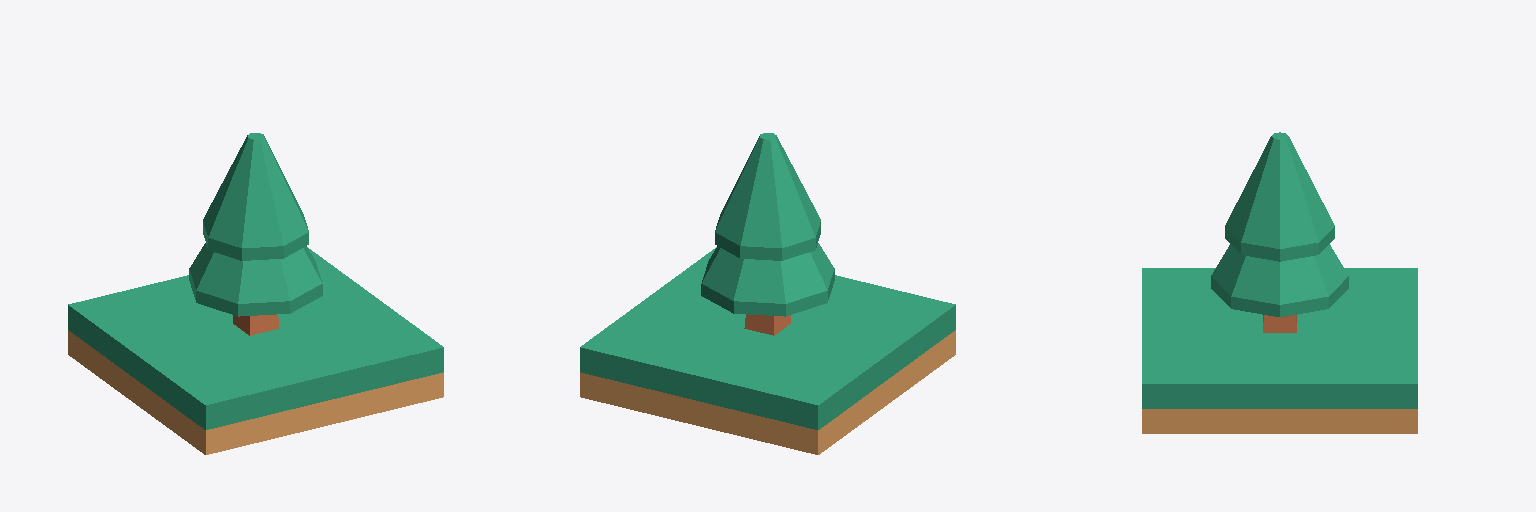
The model's file is tile_tree.obj.
The picture shows the model from 3 angles: view 1: azimuth 30°, elevation 25°; view 2: azimuth 150°, elevation 25°; view 3: azimuth 270°, elevation 25°; orthographic projection.
Visible parts, largest first — view 1: tile_tree, tree; view 2: tile_tree, tree; view 3: tile_tree, tree.
Boxes of the visible parts, box(x1,y1,x2,y2) form: tile_tree: box(68, 247, 443, 454); tree: box(189, 133, 322, 335); tile_tree: box(580, 247, 955, 454); tree: box(701, 133, 834, 335); tile_tree: box(1142, 268, 1417, 433); tree: box(1211, 132, 1348, 332).
Bounding box in the file's own units: 1 × 0.96 × 1.